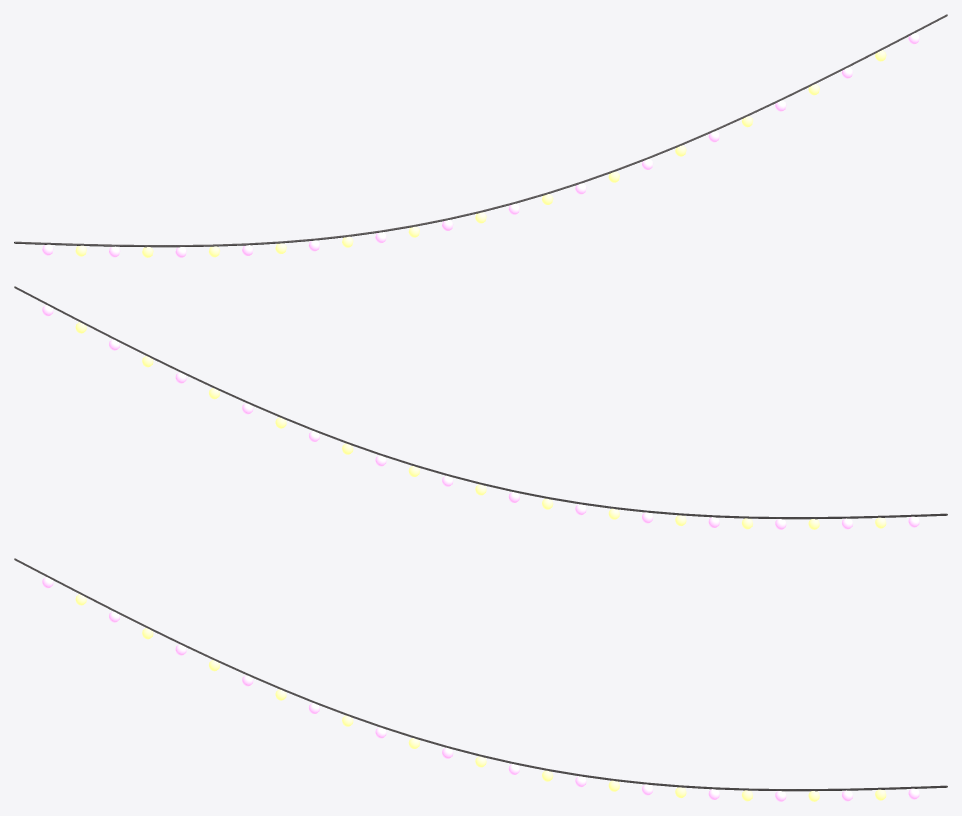
File: rc_fairy_lights.glb
3 views of the same model, one above another, from view 1: azimuth 30°, elevation 25°; view 2: azimuth 150°, elevation 25°; view 3: azimuth 330°, elevation 25° (orthographic).
Parts seen in each view (by area): view 1: rc_fairy_lights; view 2: rc_fairy_lights; view 3: rc_fairy_lights.
Boxes of the visible parts, x1,y1,x2,y2 form: rc_fairy_lights: [14, 14, 947, 257]; rc_fairy_lights: [14, 286, 947, 529]; rc_fairy_lights: [14, 558, 947, 801].
Size of the model in its own units: 16.51 by 1.61 by 0.18.
3 materials, 3 textured.
